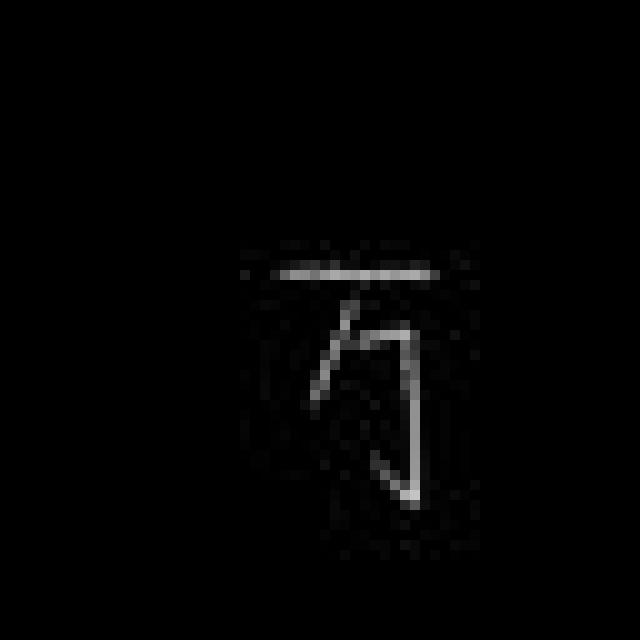10000 -a ten thousand-: (263, 245, 449, 524)
